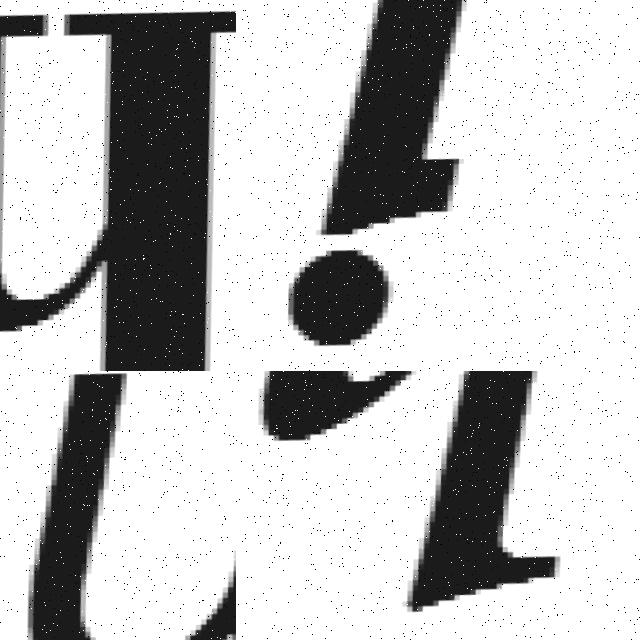H: (0, 20, 236, 371), (394, 371, 552, 616)
J: (253, 0, 630, 371)
M: (0, 371, 236, 640)
